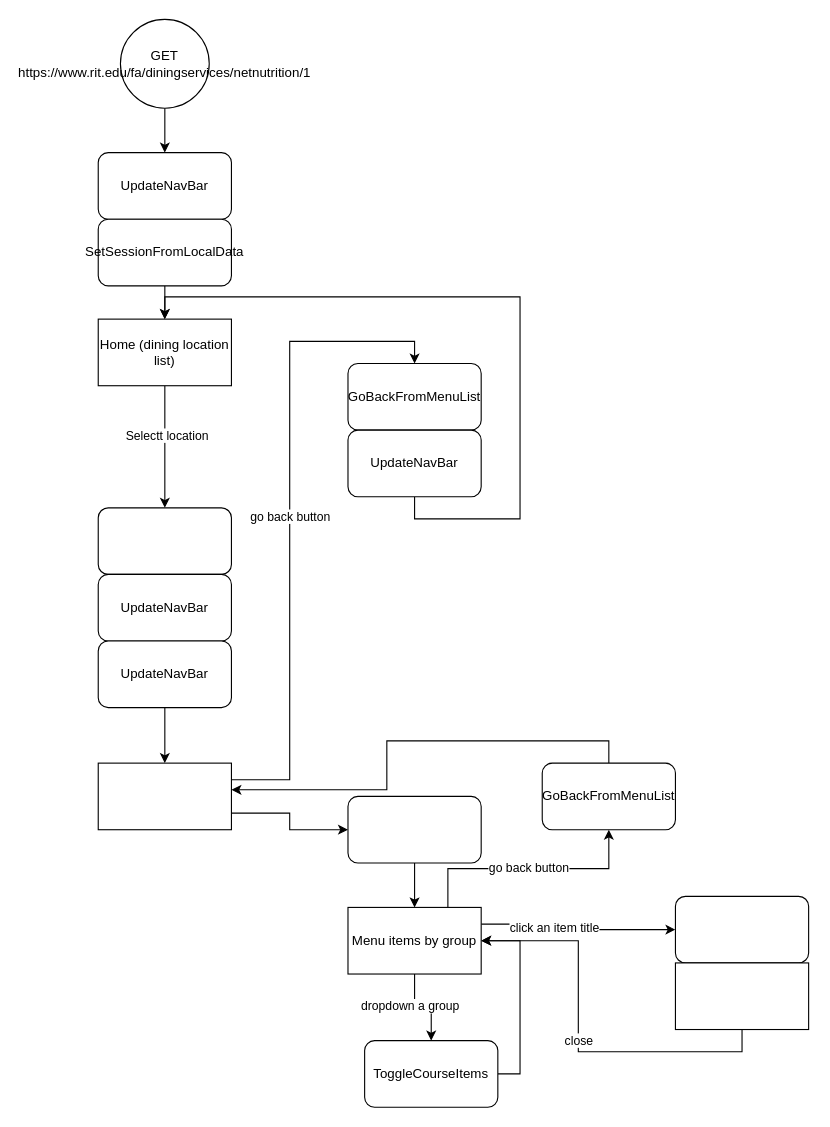
Image size: 830x1127. Some labels were removed from this diagram. The centre of each missing label's shape, as x and y in pixels:
"Menu list for <location>" goes at point 164,796.
"See nutrition label popup" goes at point 741,996.
"SelectMenu" goes at point 414,829.
"SelectUnitfromUnitsList" goes at point 164,540.
"showItemNutritionLabel" goes at point 741,929.
